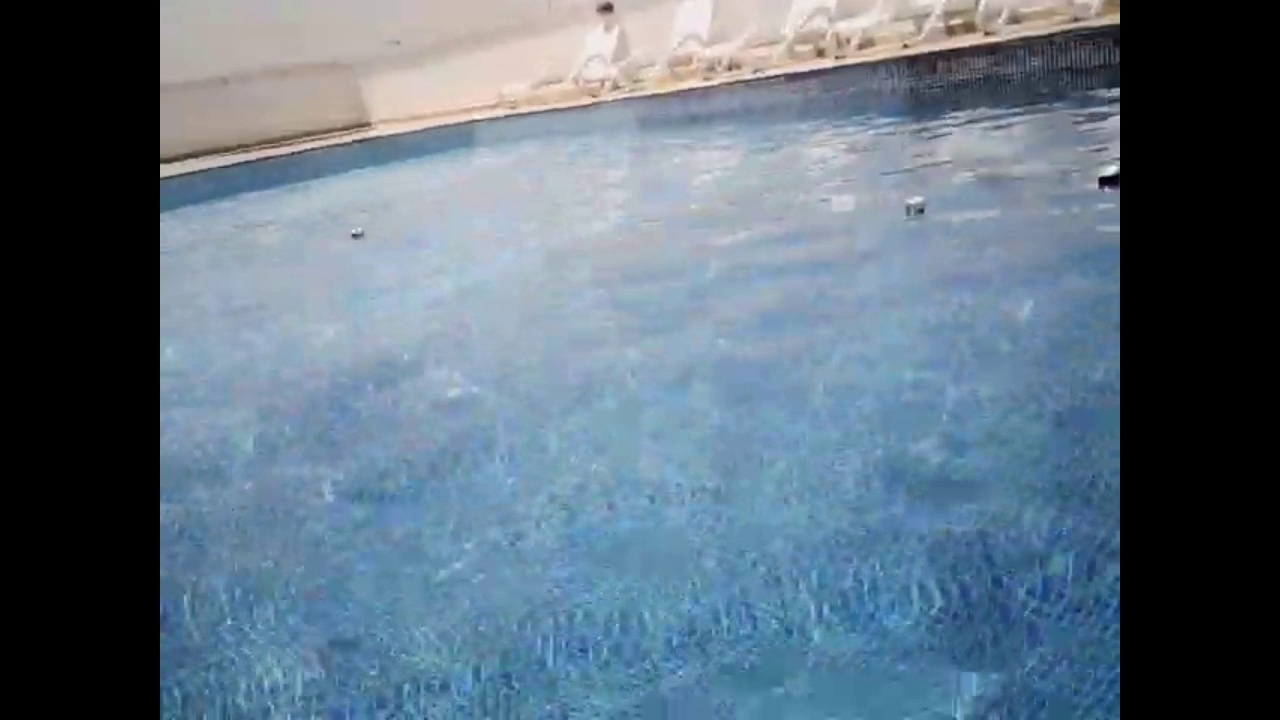debris: (899, 192, 934, 228), (1090, 160, 1118, 200), (346, 221, 368, 247)
